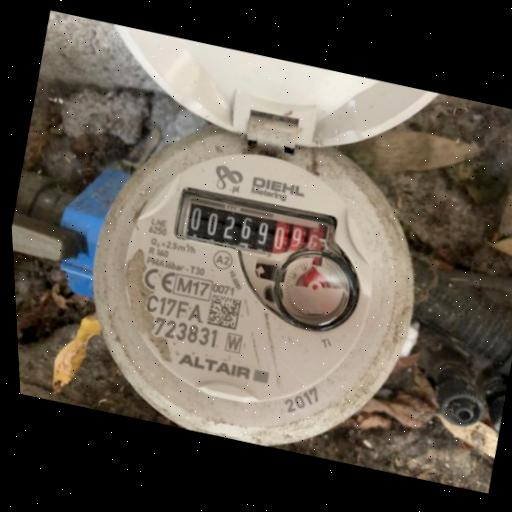0: (184, 202, 211, 239), (200, 206, 227, 242), (269, 220, 294, 257)
2: (217, 209, 240, 245)
6: (233, 212, 261, 250), (301, 222, 328, 255)
9: (250, 217, 277, 253), (284, 223, 310, 254)
border_water_meter_number: (170, 180, 341, 272)
